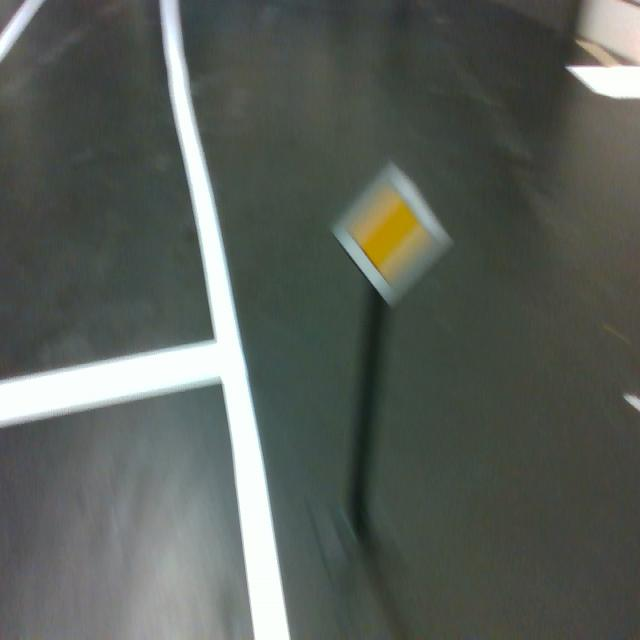priority-sign: (331, 162, 454, 308)
